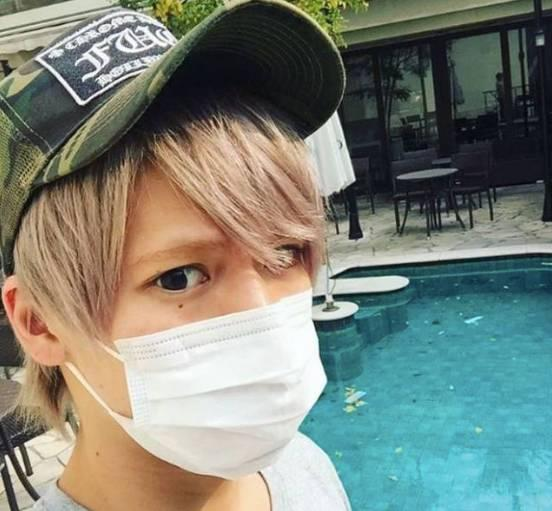face_mask: (70, 150, 317, 462)
